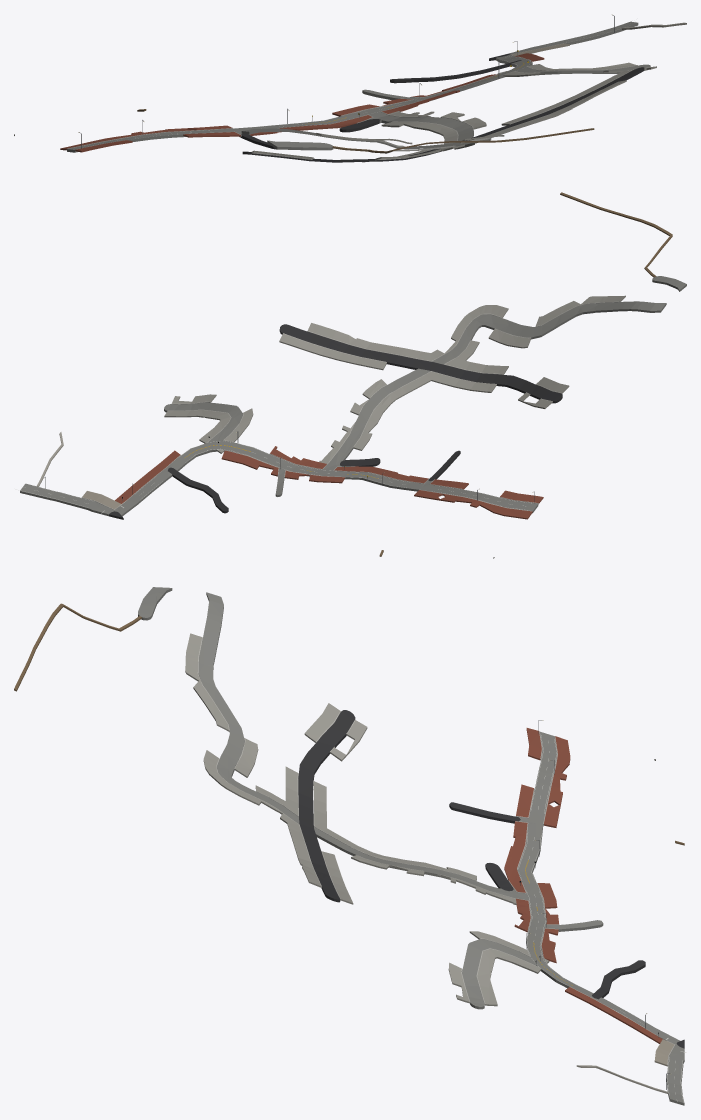
3 views of the same model, one above another, from view 1: azimuth 30°, elevation 25°; view 2: azimuth 150°, elevation 25°; view 3: azimuth 270°, elevation 25° (orthographic). The views are drawn at different scales.
Size of the model in its own units: 297 by 114 by 284.
